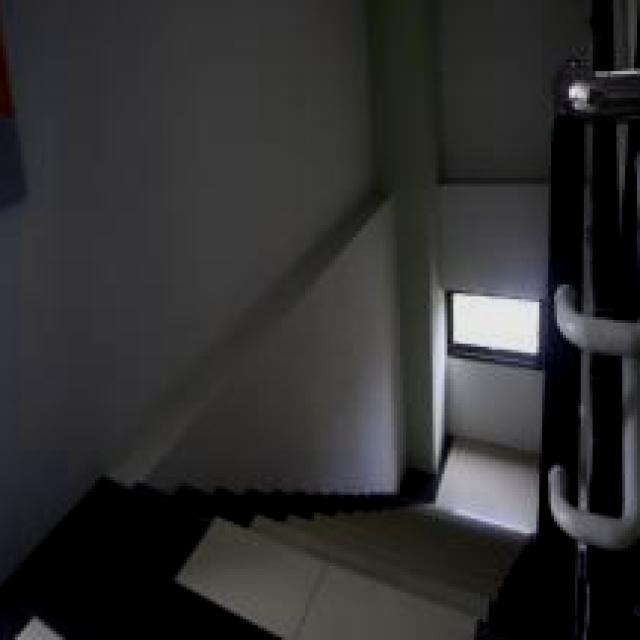downstair: (169, 507, 534, 640)
